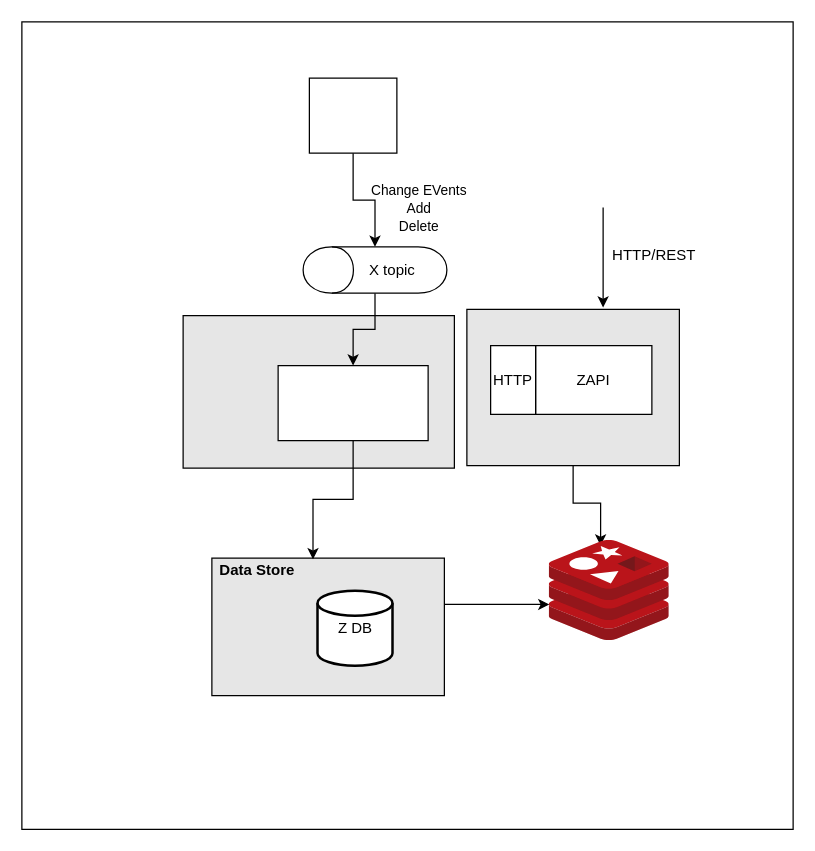
Image size: 815x851. Some labels were removed from this diagram. The box of each missing label's shape, as (x1, y1, x2, y2) in pixels:
Legacy DB: (308, 77, 397, 153)
Stream Processor Microservice: (277, 364, 428, 441)
